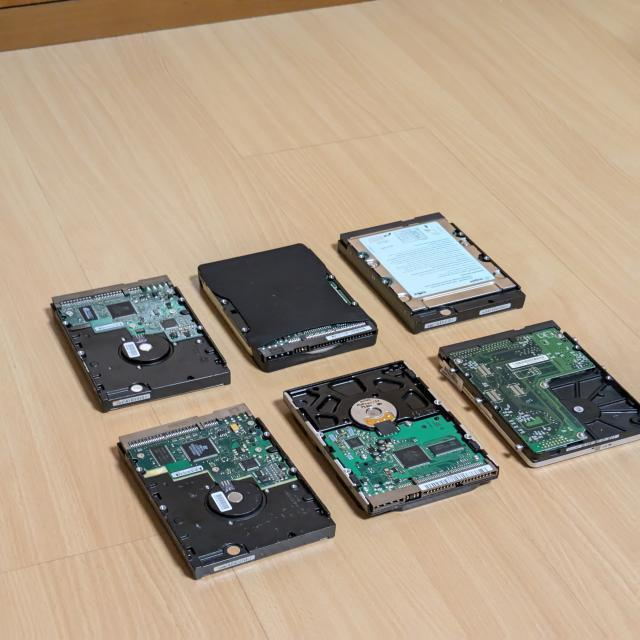DISK: (116, 402, 336, 580), (282, 359, 500, 516), (438, 320, 640, 468), (50, 274, 232, 413), (337, 212, 526, 336), (198, 244, 379, 372)
